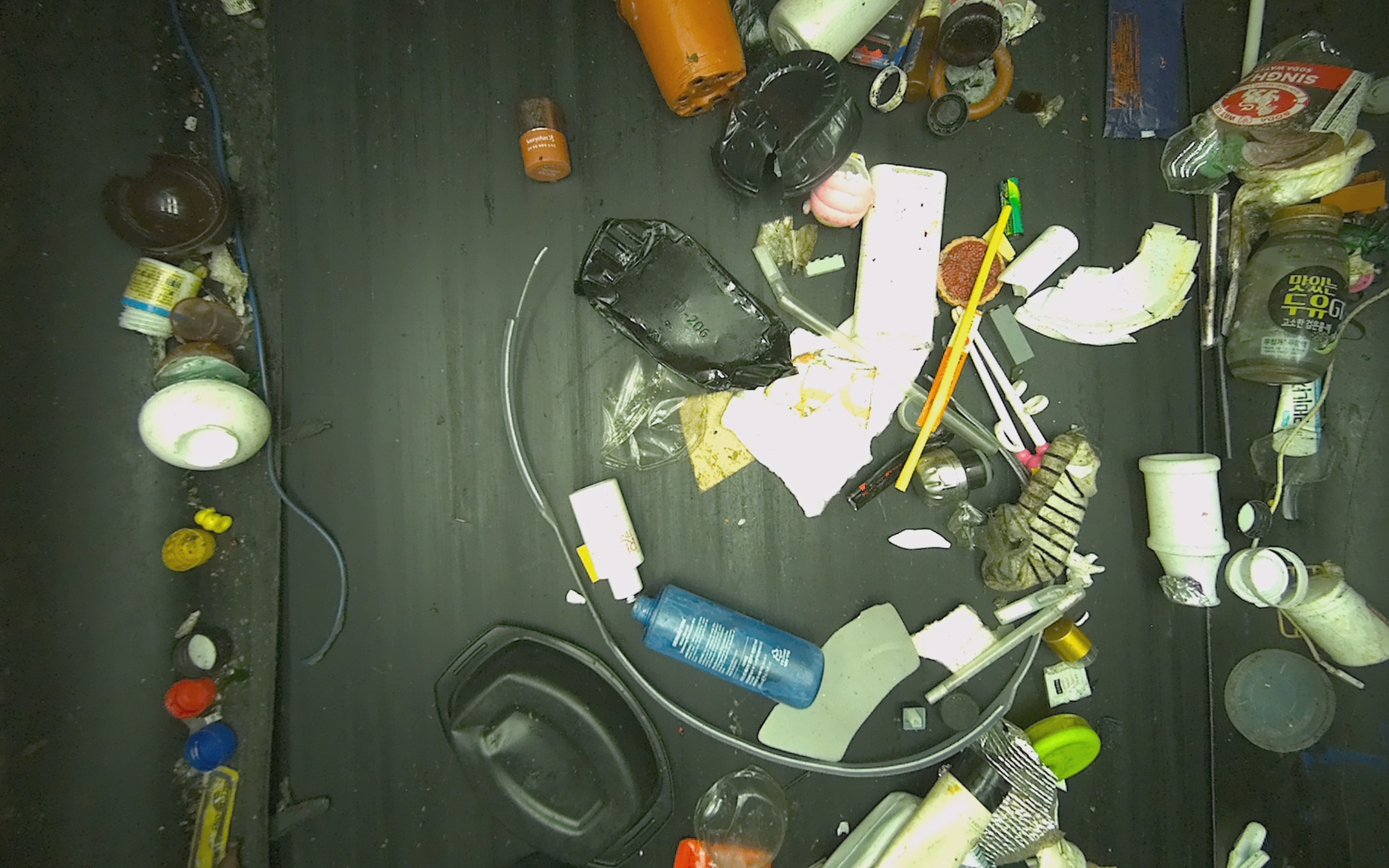PET-C: (597, 354, 707, 472), (693, 765, 788, 868)
PP-B: (434, 624, 675, 868)
PS-W: (1139, 454, 1230, 608)
